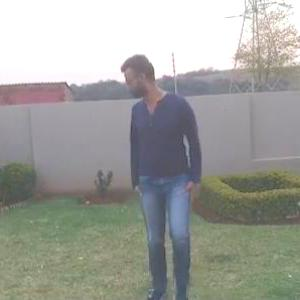follow: (123, 43, 204, 283)
